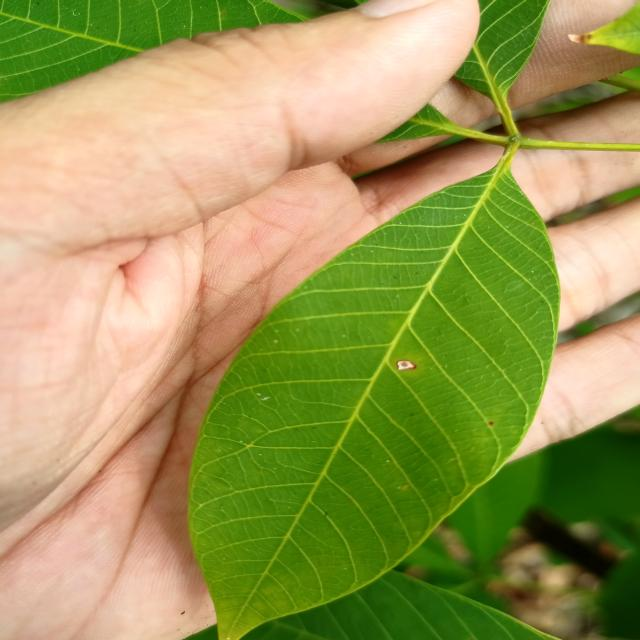Colletotrichum: (396, 359, 416, 370)
